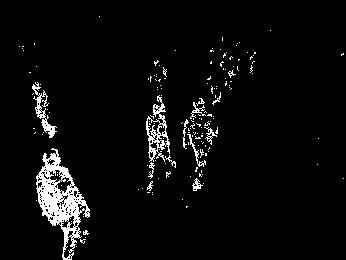person: (33, 146, 92, 256), (182, 96, 220, 192), (142, 100, 174, 196), (31, 80, 57, 140)
